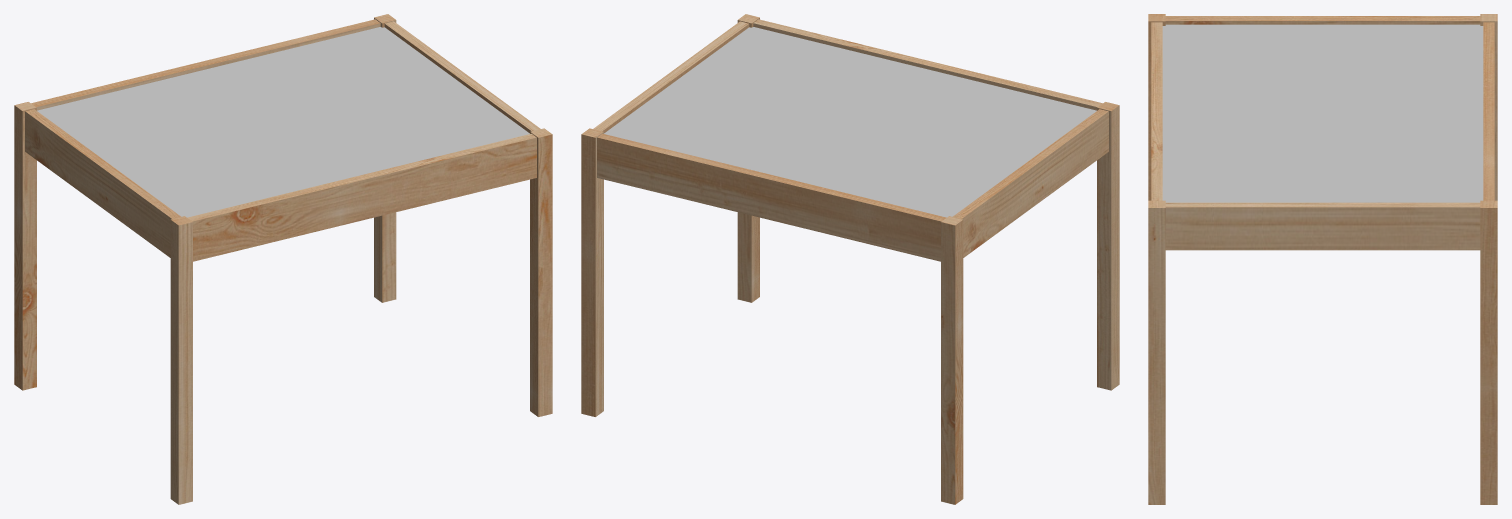
Rendered from children_table.obj.
3 views of the same model, side by side, from view 1: azimuth 30°, elevation 25°; view 2: azimuth 150°, elevation 25°; view 3: azimuth 270°, elevation 25° (orthographic). The views are drawn at different scales.
Visible parts, largest first — view 1: table_Cube.002; view 2: table_Cube.002; view 3: table_Cube.002.
Boxes of the visible parts, x1,y1,x2,y2 form: table_Cube.002: (14, 14, 552, 504); table_Cube.002: (581, 14, 1119, 504); table_Cube.002: (1148, 14, 1497, 504).
Bounding box in the file's own units: 63 × 45 × 48.
2 materials, 1 textured.
